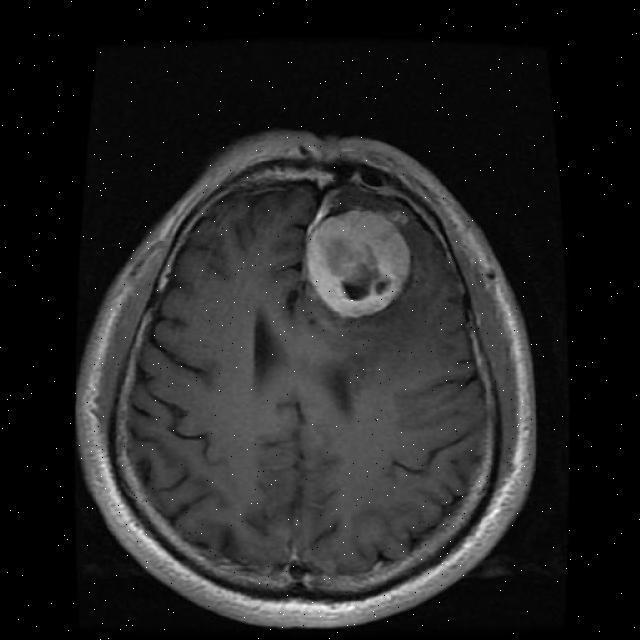Meningioma: (306, 210, 409, 316)
